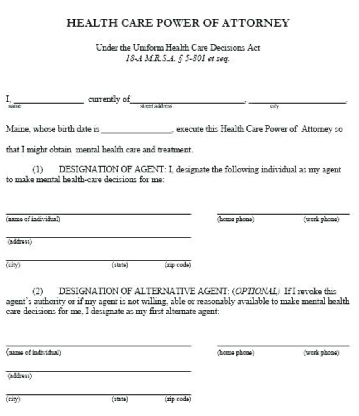textline: (2, 331, 195, 351), (4, 200, 196, 218), (4, 246, 197, 263), (2, 358, 194, 375), (3, 382, 196, 398), (4, 224, 196, 240), (213, 333, 353, 351), (215, 201, 353, 217), (128, 91, 247, 107), (247, 89, 349, 106), (100, 120, 176, 137), (11, 90, 85, 105)
